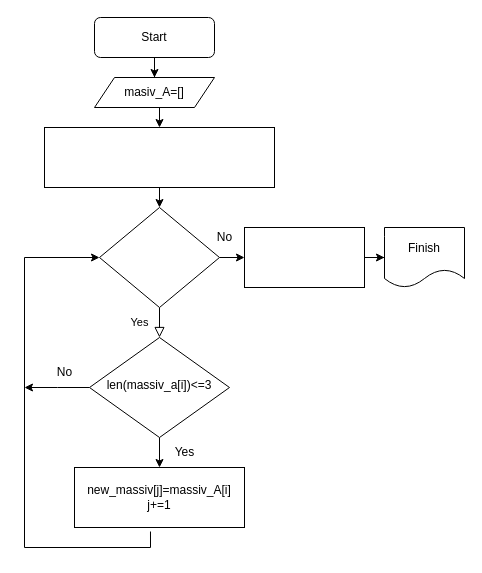
Some shapes in this 482 by 573 pixel diagram are drawn without their labels. Here are the shapes that lost their labels. From the top down, the box of each, then its label:
(44, 126, 274, 188): new_massiv [] (пустой) len(massiv_A) //количество элементов j=0
(98, 206, 220, 308): i=0; i<len(massiv_a); i+=1
(244, 226, 364, 288): вывод на печать элементов new_massiv
